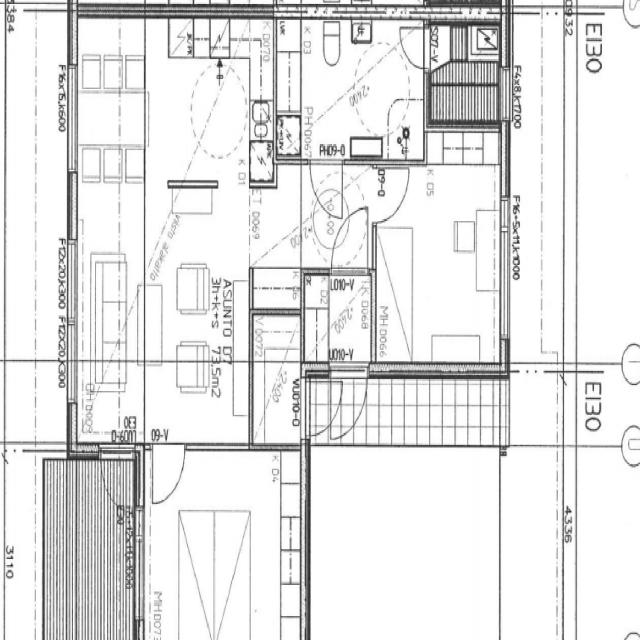door: (331, 363, 366, 440), (332, 210, 368, 276), (301, 382, 342, 436), (101, 443, 132, 512), (372, 167, 410, 223), (152, 443, 184, 504), (310, 160, 341, 217), (399, 28, 431, 68)
